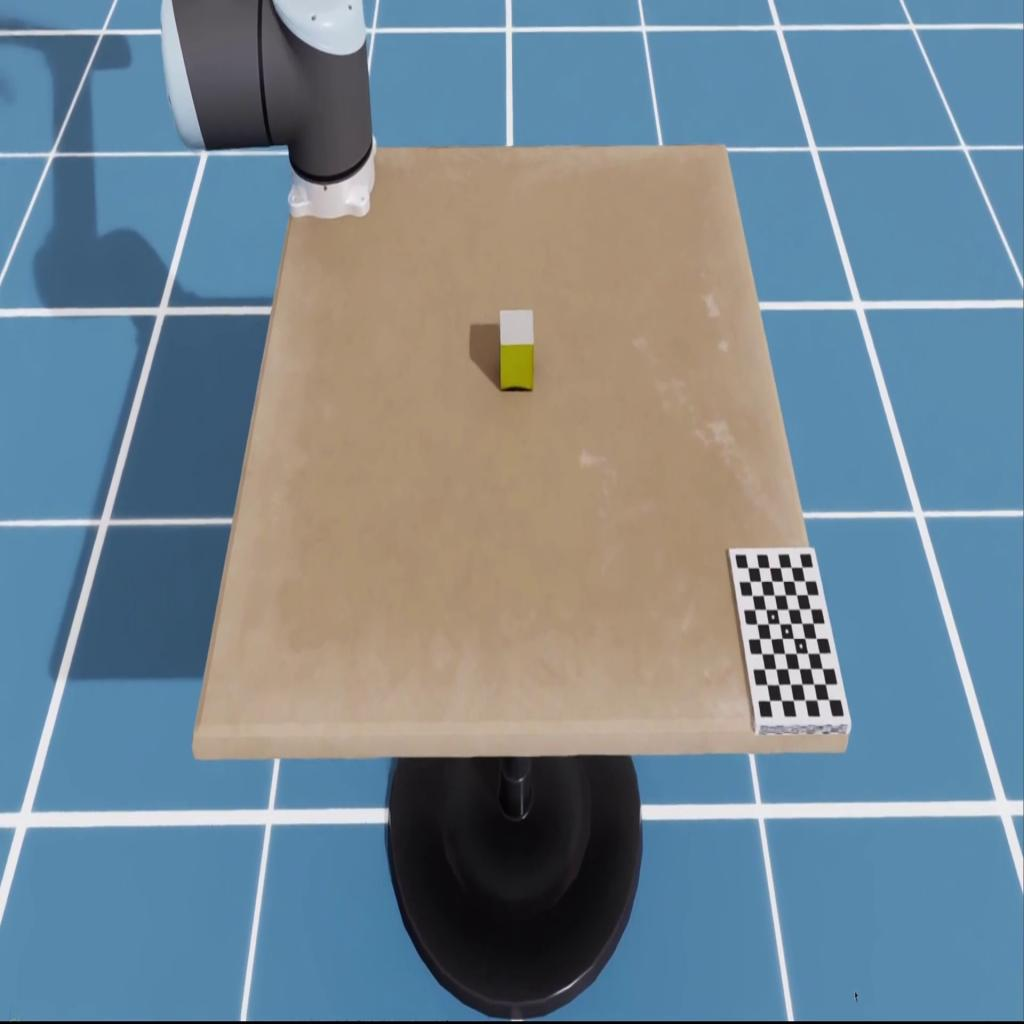Cube: (499, 308, 534, 392)
QR: (726, 543, 851, 747)
Robot: (160, 0, 377, 221)
Table: (192, 140, 850, 764)
